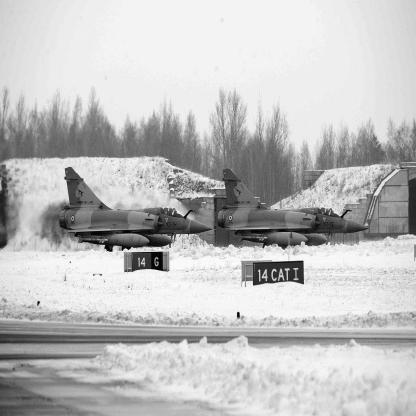Mirage2000: (60, 168, 218, 254), (218, 169, 374, 250)
